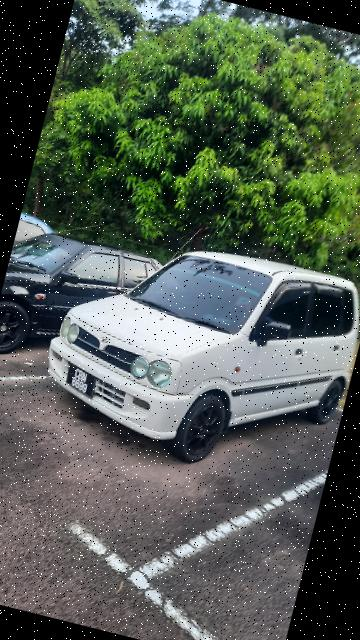License_Plate: (60, 360, 102, 401)
car: (25, 210, 360, 498)
